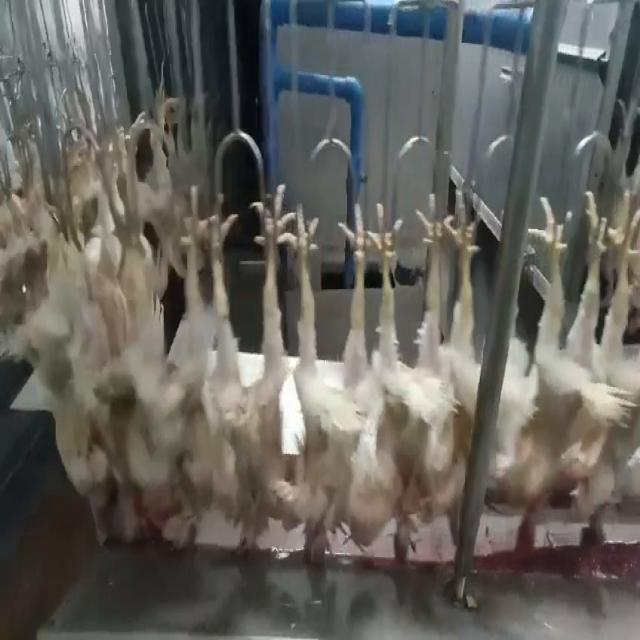chicken: (503, 185, 593, 560), (368, 188, 448, 574), (296, 198, 379, 570), (218, 179, 298, 560), (142, 175, 218, 558), (575, 185, 638, 557), (440, 189, 479, 542)
